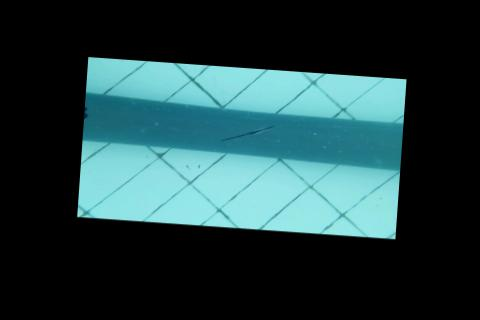kebocoran: (83, 104, 88, 122)
keretakan: (219, 122, 274, 146)
